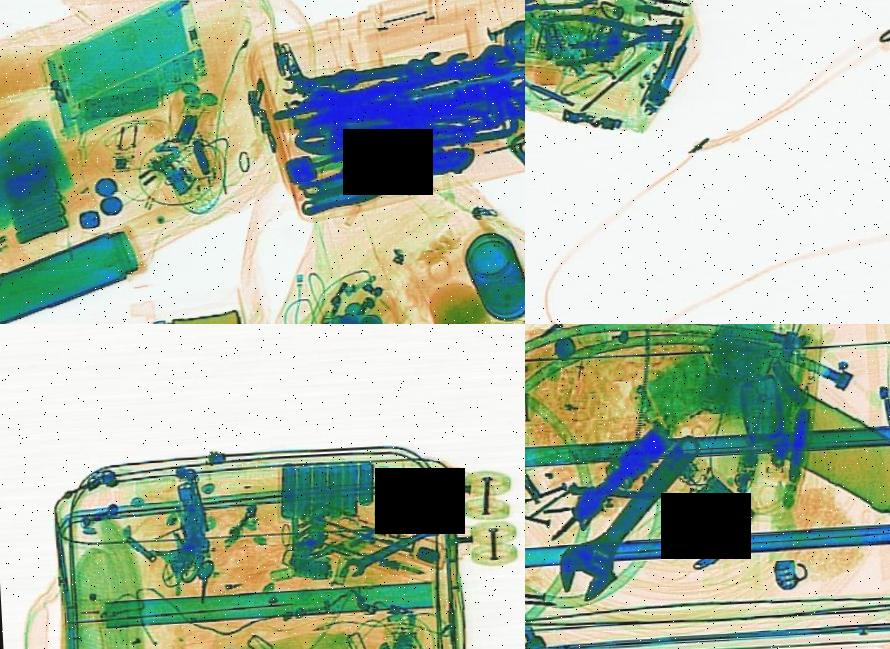Pliers: (292, 136, 479, 214), (546, 5, 684, 64), (525, 0, 618, 38)
Wrench: (526, 424, 736, 606), (278, 45, 444, 96), (336, 514, 446, 580), (362, 47, 476, 102)
